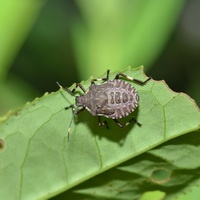insect: (57, 69, 150, 128)
